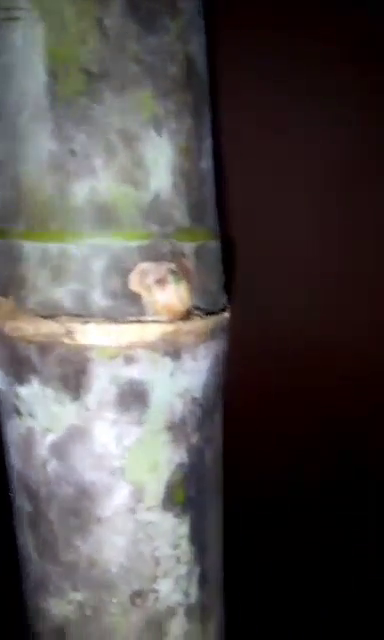cane eye: (129, 259, 200, 327)
